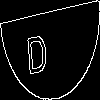D: (25, 25, 49, 75)
